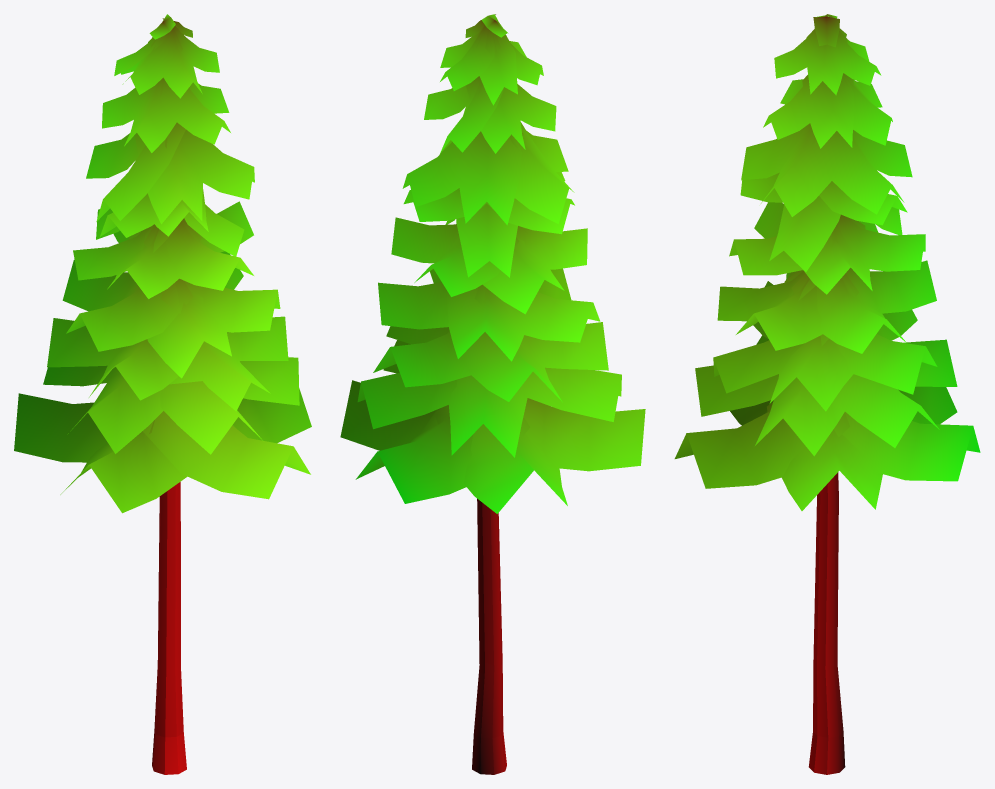
File: SM_Tree_Pine_Large_02.fbx
The picture shows the model from 3 angles, left to right: view 1: azimuth 30°, elevation 25°; view 2: azimuth 150°, elevation 25°; view 3: azimuth 270°, elevation 25°; orthographic projection.
Visible parts, largest first — view 1: SM_Tree_Pine_Large_02; view 2: SM_Tree_Pine_Large_02; view 3: SM_Tree_Pine_Large_02.
Boxes of the visible parts, x1,y1,x2,y2 form: SM_Tree_Pine_Large_02: (14, 14, 311, 774); SM_Tree_Pine_Large_02: (340, 14, 645, 774); SM_Tree_Pine_Large_02: (674, 14, 980, 774).
Size of the model in its own units: 314 by 859 by 317.
